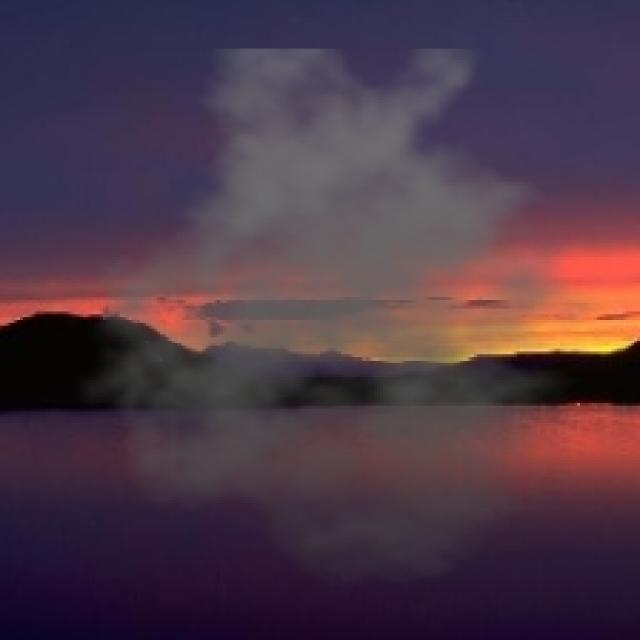smoke: (74, 49, 629, 588)
